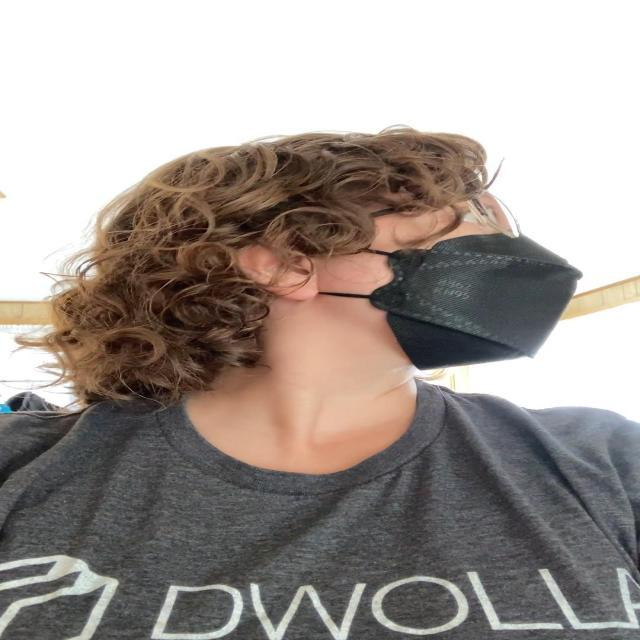no hat: (333, 181, 583, 369)
